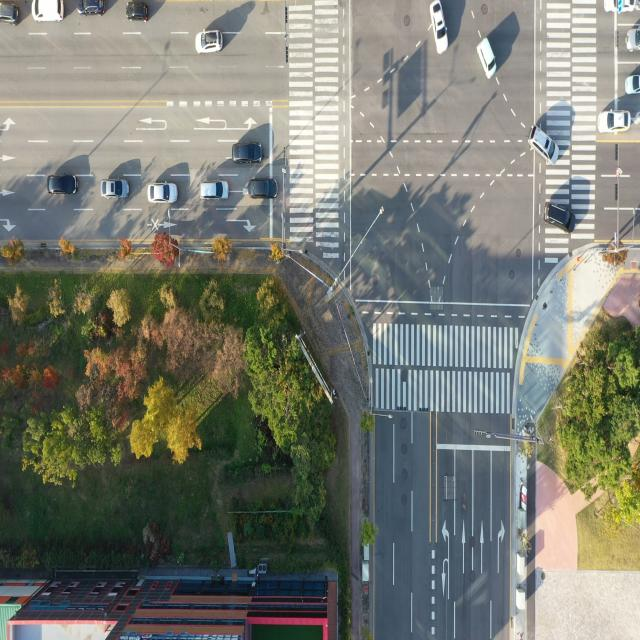car: (542, 196, 578, 233), (532, 122, 561, 165), (431, 0, 449, 55), (478, 37, 498, 80), (196, 26, 226, 54), (597, 108, 633, 131), (30, 0, 63, 23), (233, 141, 263, 166), (48, 175, 79, 198), (76, 0, 108, 22), (149, 182, 178, 205), (248, 178, 278, 199), (0, 1, 23, 27), (200, 180, 228, 201), (103, 182, 131, 202), (624, 70, 640, 102), (125, 4, 153, 22), (601, 0, 636, 14), (624, 25, 640, 52)
